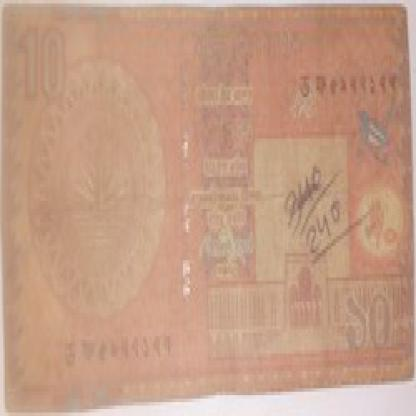Ten Taka: (22, 3, 76, 108), (349, 291, 398, 361)
